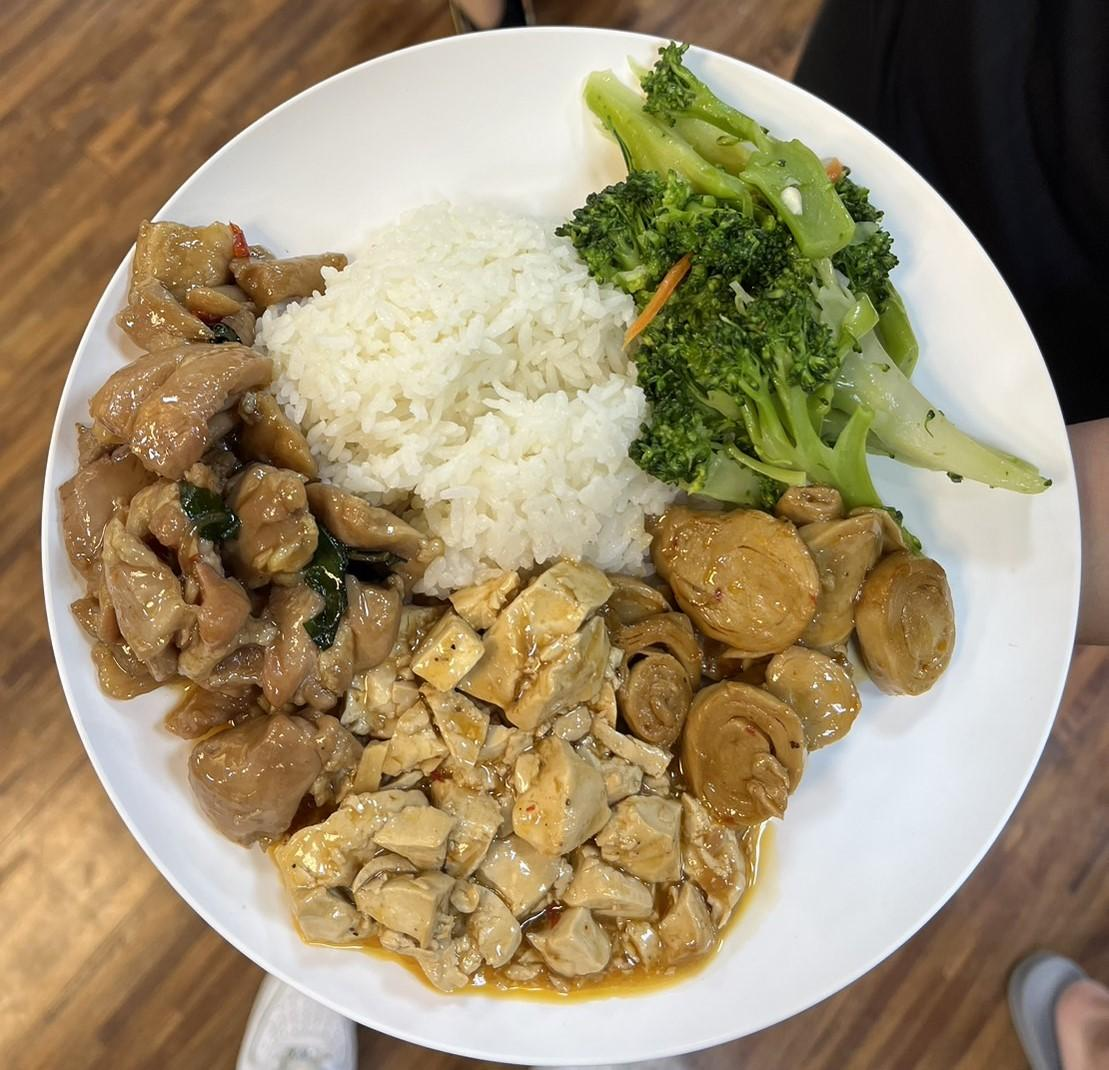big fried chicken leg: (36, 28, 1092, 1070)
big herbal chicken leg: (258, 196, 670, 579)
braised fish fillet: (560, 25, 1052, 510), (280, 548, 736, 981), (603, 498, 968, 821)
braised pork: (58, 221, 443, 843)
